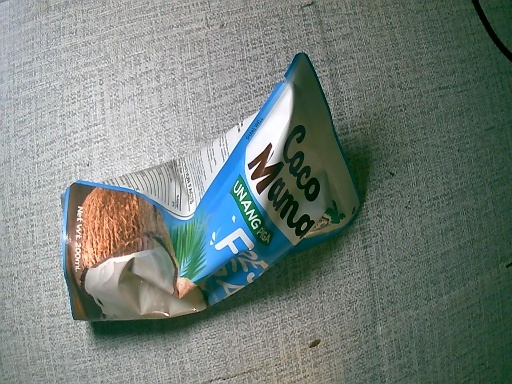plastic: (61, 50, 360, 328)
